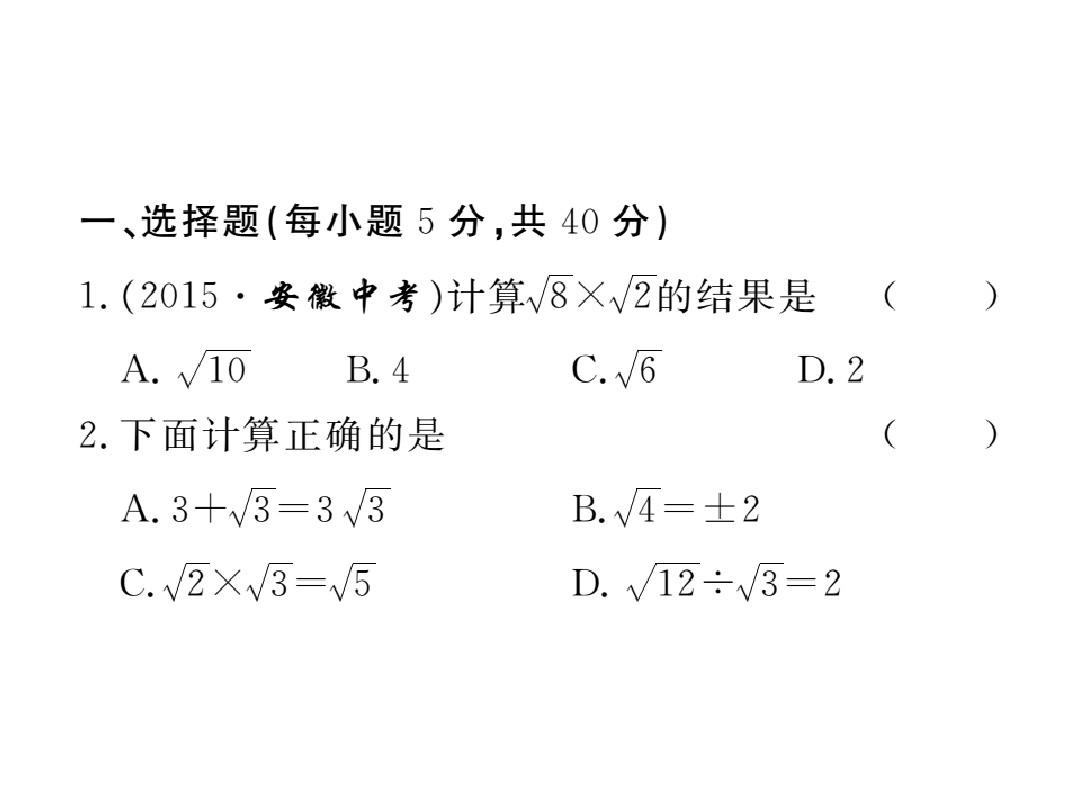sqrt: (619, 557, 701, 602), (327, 546, 385, 603), (617, 338, 664, 397), (733, 554, 785, 606), (161, 557, 218, 603), (525, 268, 575, 320), (184, 346, 256, 382), (227, 483, 280, 531), (610, 269, 661, 317), (249, 555, 296, 607), (342, 481, 390, 531), (615, 483, 663, 528)
